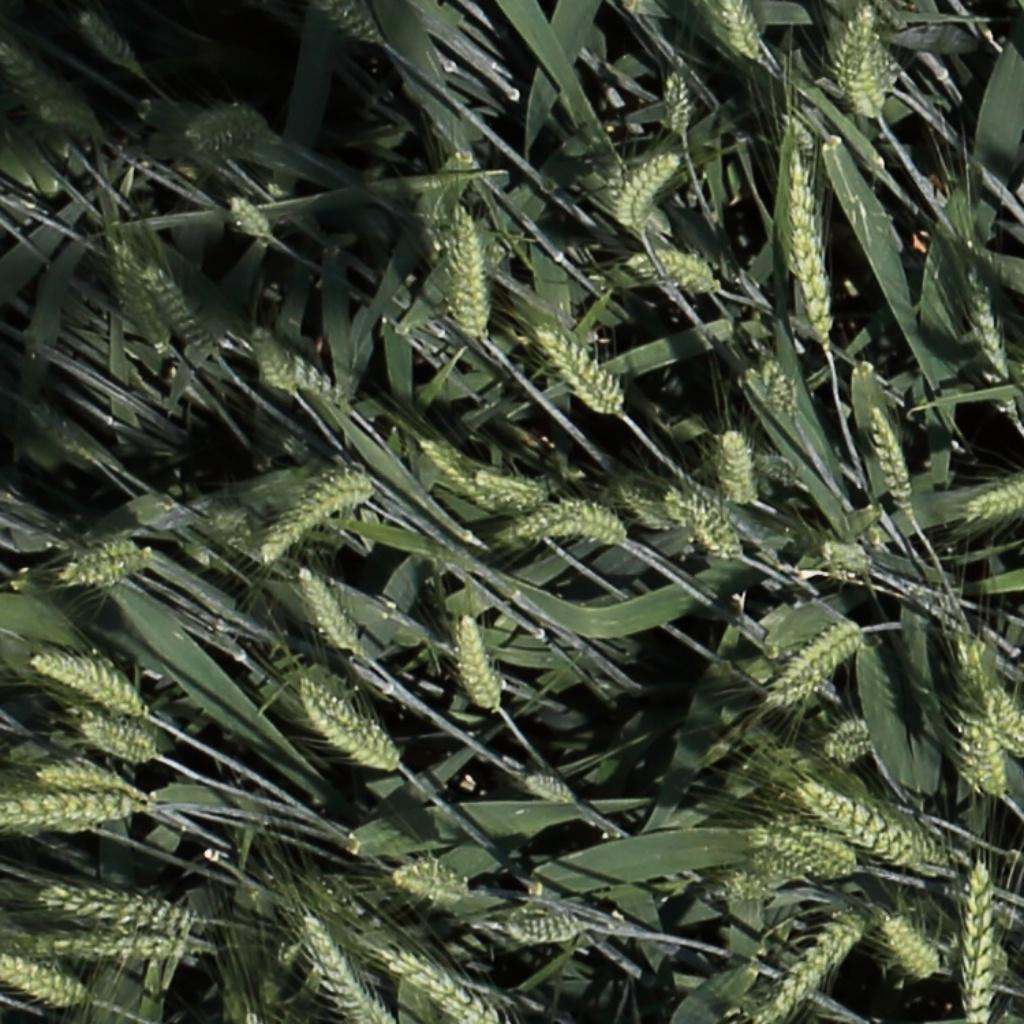0-0: (256, 458, 401, 557), (365, 935, 521, 1024), (794, 785, 943, 872), (294, 907, 404, 1024), (782, 123, 838, 350), (753, 905, 862, 1021), (31, 868, 200, 935), (533, 324, 637, 428), (950, 858, 1013, 1024), (11, 915, 220, 965), (296, 684, 407, 778), (961, 262, 1019, 433), (950, 637, 1008, 803), (288, 562, 371, 665), (30, 655, 157, 721), (104, 235, 178, 347), (764, 621, 856, 710), (449, 203, 500, 359), (181, 96, 290, 167), (2, 793, 163, 841), (453, 613, 517, 727), (137, 260, 212, 356), (836, 0, 892, 127), (415, 436, 506, 514), (819, 17, 900, 97), (612, 146, 678, 242), (27, 753, 141, 808), (19, 399, 104, 471), (663, 481, 737, 562), (864, 401, 916, 516), (58, 528, 164, 584), (509, 492, 625, 539), (1, 42, 81, 107), (270, 345, 350, 409), (0, 957, 91, 1012), (752, 831, 853, 879), (243, 320, 299, 401), (877, 914, 943, 982), (79, 720, 168, 766), (73, 10, 137, 73), (649, 248, 724, 301), (388, 864, 479, 905), (316, 1, 392, 48), (491, 915, 588, 950), (960, 481, 1024, 533), (723, 853, 776, 915), (716, 424, 756, 505), (34, 98, 112, 137), (718, 0, 764, 66), (757, 349, 795, 423), (221, 189, 271, 243), (614, 484, 671, 529), (989, 686, 1024, 759), (472, 471, 543, 505), (522, 775, 576, 813), (663, 64, 688, 141), (817, 540, 872, 573), (752, 454, 800, 484)
